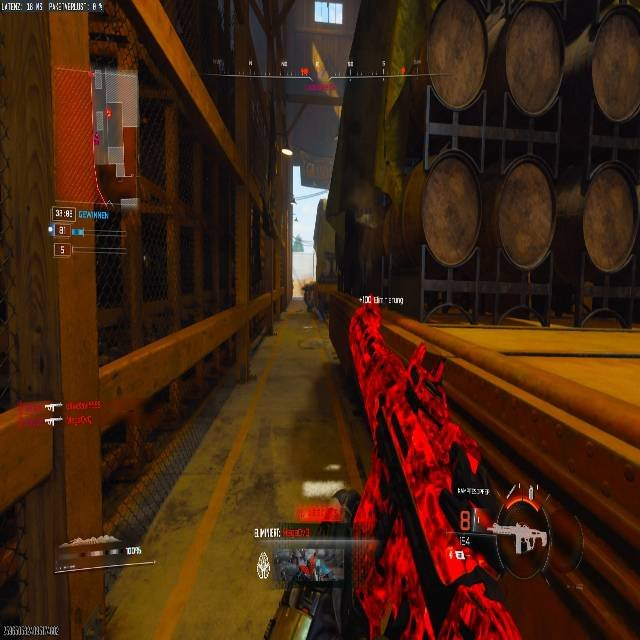player: (293, 232, 304, 252)
